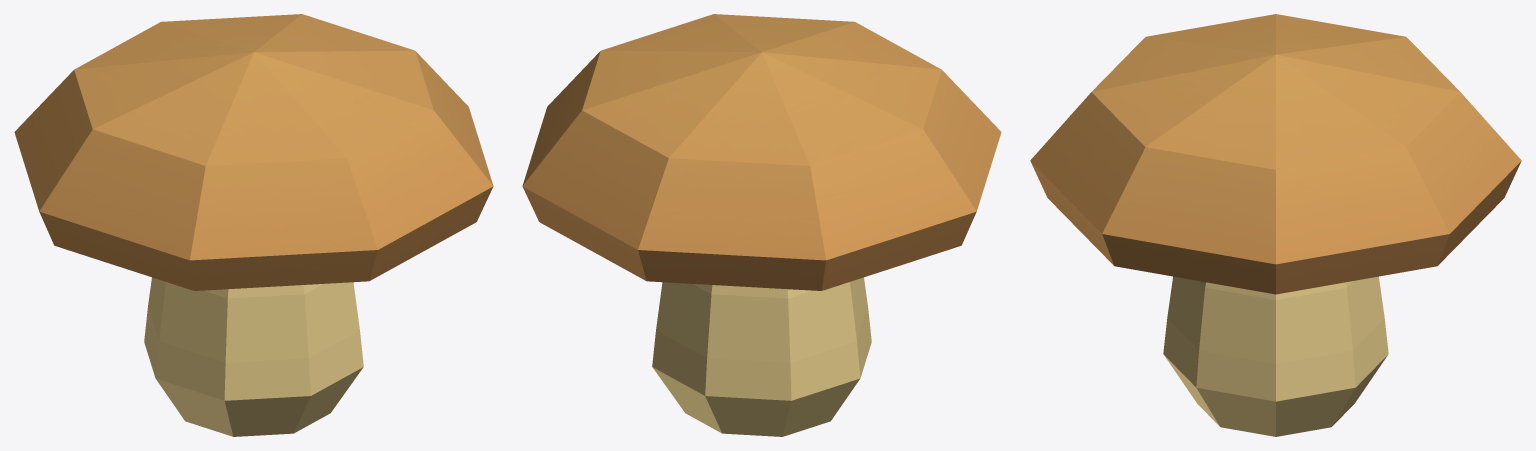
Rendered from Pilz_klein.fbx.
3 views of the same model, side by side, from view 1: azimuth 30°, elevation 25°; view 2: azimuth 150°, elevation 25°; view 3: azimuth 270°, elevation 25° (orthographic).
Parts seen in each view (by area): view 1: Pilz_klein; view 2: Pilz_klein; view 3: Pilz_klein.
Part boxes in pixels (x1=…): Pilz_klein: x1=14, y1=14, x2=493, y2=436; Pilz_klein: x1=522, y1=14, x2=1001, y2=436; Pilz_klein: x1=1030, y1=14, x2=1521, y2=436.
Size of the model in its own units: 17.27 by 13.53 by 17.27.
